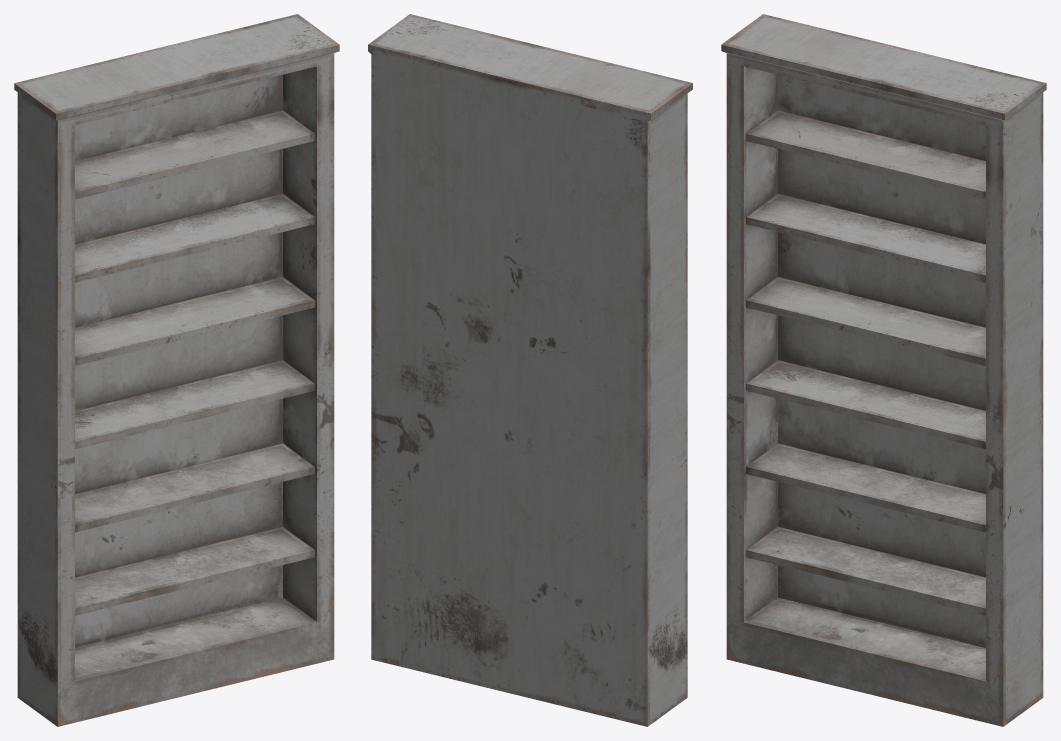
The model's file is shelf.glb.
3 views of the same model, side by side, from view 1: azimuth 30°, elevation 25°; view 2: azimuth 150°, elevation 25°; view 3: azimuth 330°, elevation 25° (orthographic).
Parts seen in each view (by area): view 1: Shelf_01; view 2: Shelf_01; view 3: Shelf_01.
Boxes of the visible parts, x1,y1,x2,y2 form: Shelf_01: [14, 14, 339, 726]; Shelf_01: [368, 14, 692, 726]; Shelf_01: [721, 14, 1046, 726].
Bounding box in the file's own units: 1 × 2.08 × 0.257.
1 material, 1 textured.
